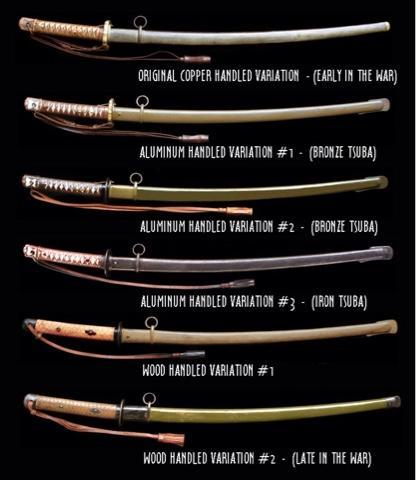espada: (6, 370, 408, 450), (10, 225, 416, 289), (12, 76, 399, 142), (3, 158, 402, 218), (6, 302, 406, 361), (12, 0, 398, 61)
